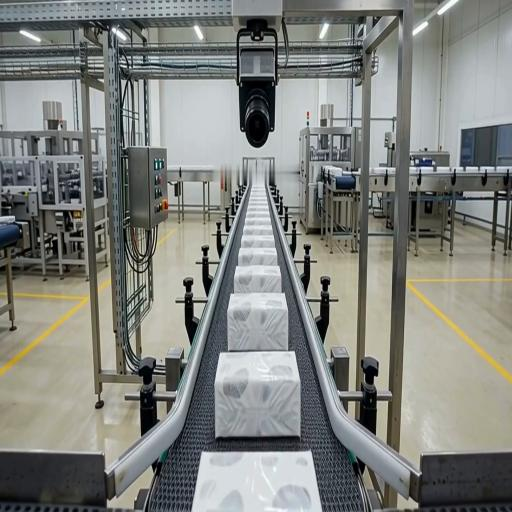good: (192, 452, 321, 511), (215, 352, 300, 437), (227, 293, 289, 351), (234, 266, 282, 293), (238, 248, 277, 265), (241, 235, 275, 247), (243, 226, 273, 235), (245, 216, 271, 226), (246, 211, 269, 219), (248, 204, 269, 212), (249, 198, 267, 206)
